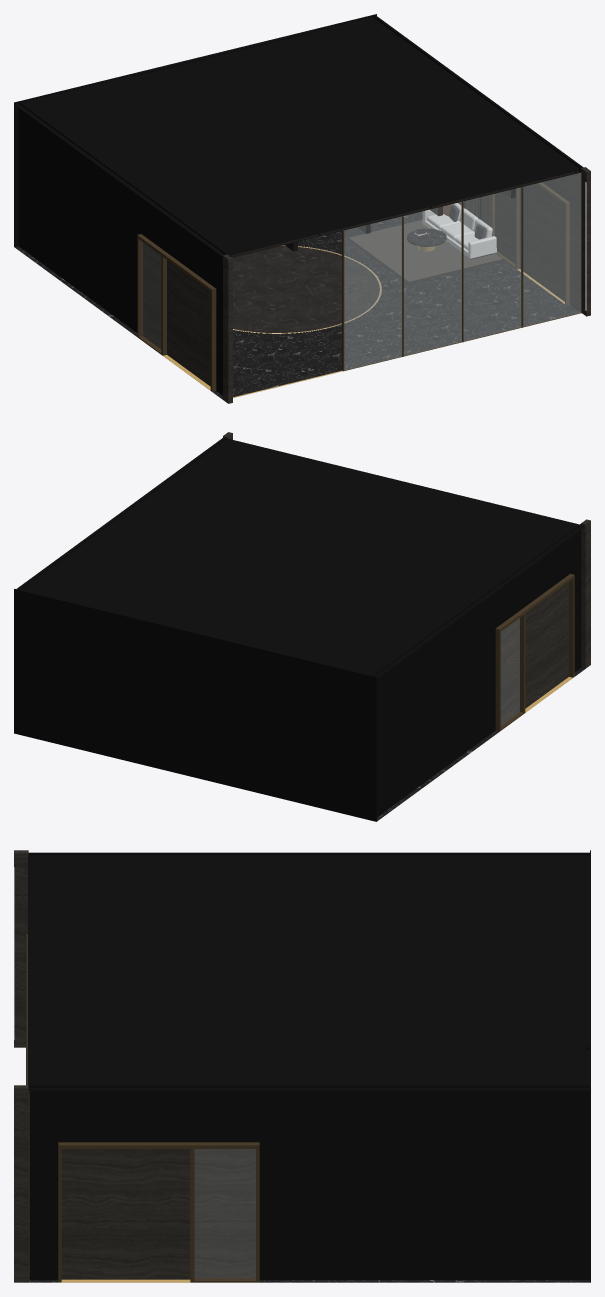
Rendered from room_executive.glb.
The picture shows the model from 3 angles, top to bottom: view 1: azimuth 30°, elevation 25°; view 2: azimuth 150°, elevation 25°; view 3: azimuth 270°, elevation 25°; orthographic projection. The views are drawn at different scales.
Visible parts, largest first — view 1: MTG_Reveals, MTG_Glass_Vitrine, MTG_Floor, MTG_Stage, MTG_PortalFill_L, MTG_PortalFill_R, MTG_Rug, MTG_Walls, MTG_Sofa, MTG_Glass_PortalL, MTG_Pier_-1, MTG_Ceiling (+6 smaller); view 2: MTG_Reveals, MTG_PortalFill_L, MTG_Glass_PortalL, MTG_Pier_-1, MTG_PortalL_Mull, MTG_Floor, MTG_PortalL_JambA, MTG_PortalL_Head, MTG_PortalL_JambB; view 3: MTG_Reveals, MTG_PortalFill_R, MTG_Glass_PortalR, MTG_Pier_1, MTG_Pier_-1, MTG_PortalR_Head, MTG_Floor, MTG_PortalR_Mull.
Boxes of the visible parts, x1,y1,x2,y2 form: MTG_Reveals: (14, 14, 583, 395); MTG_Glass_Vitrine: (344, 173, 580, 369); MTG_Floor: (14, 211, 579, 399); MTG_Stage: (232, 246, 379, 332); MTG_PortalFill_L: (142, 242, 210, 386); MTG_PortalFill_R: (495, 184, 564, 301); MTG_Rug: (349, 220, 502, 281); MTG_Walls: (458, 171, 580, 310); MTG_Sofa: (422, 203, 496, 259); MTG_Glass_PortalL: (142, 242, 160, 348); MTG_Pier_-1: (223, 254, 232, 403); MTG_Ceiling: (230, 171, 576, 257); MTG_Reveals: (14, 437, 584, 821); MTG_PortalFill_L: (501, 582, 568, 725); MTG_Glass_PortalL: (501, 618, 519, 724); MTG_Pier_-1: (581, 519, 590, 668); MTG_PortalL_Mull: (519, 614, 525, 713); MTG_Floor: (377, 668, 584, 821); MTG_PortalL_JambA: (495, 631, 500, 731); MTG_PortalL_Head: (495, 574, 574, 632); MTG_PortalL_JambB: (569, 578, 574, 677); MTG_Reveals: (28, 850, 590, 1282); MTG_PortalFill_R: (61, 1149, 255, 1279); MTG_Glass_PortalR: (195, 1149, 255, 1277); MTG_Pier_1: (14, 1085, 28, 1282); MTG_Pier_-1: (14, 850, 28, 1047); MTG_PortalR_Head: (58, 1142, 259, 1148); MTG_Floor: (28, 1280, 589, 1282); MTG_PortalR_Mull: (190, 1149, 194, 1282).
Size of the model in its own units: 13 by 4.95 by 13.32.
Materials: 26 (6 with a texture image).
